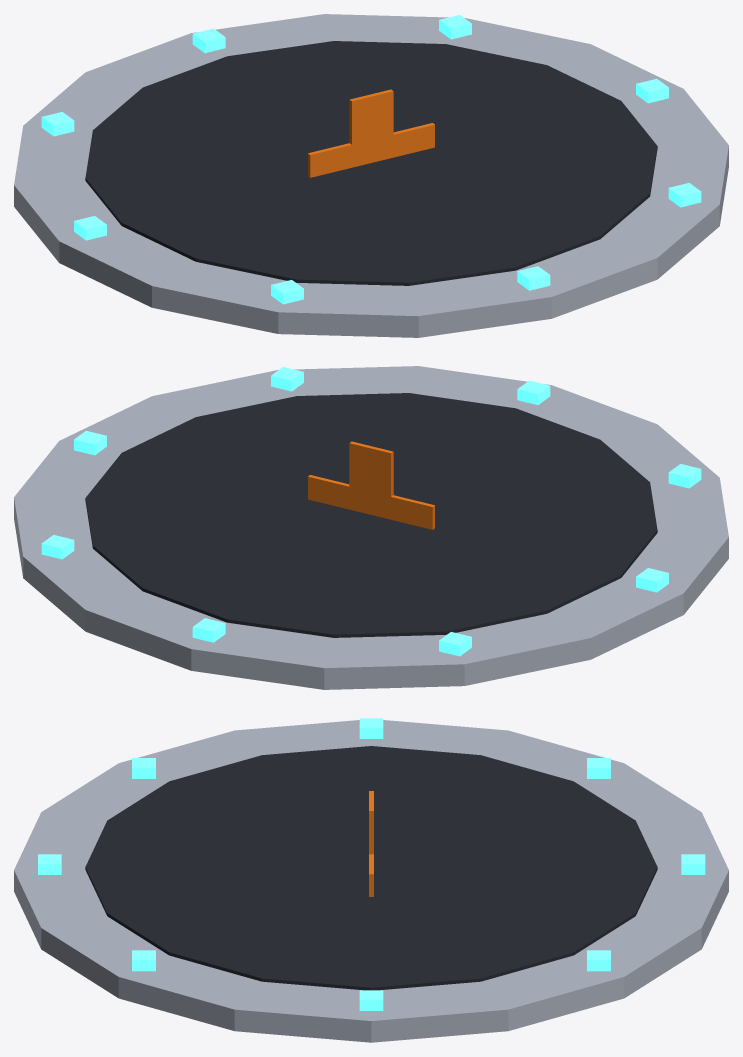
The model's file is lunar-landing-pad.glb.
The picture shows the model from 3 angles, top to bottom: view 1: azimuth 30°, elevation 25°; view 2: azimuth 150°, elevation 25°; view 3: azimuth 270°, elevation 25°; orthographic projection.
Parts seen in each view (by area): view 1: landing_pad; view 2: landing_pad; view 3: landing_pad.
Boxes of the visible parts, x1,y1,x2,y2 form: landing_pad: (14,14,728,337); landing_pad: (14,366,728,689); landing_pad: (14,718,728,1042).
Size of the model in its own units: 6 by 1.2 by 6.
